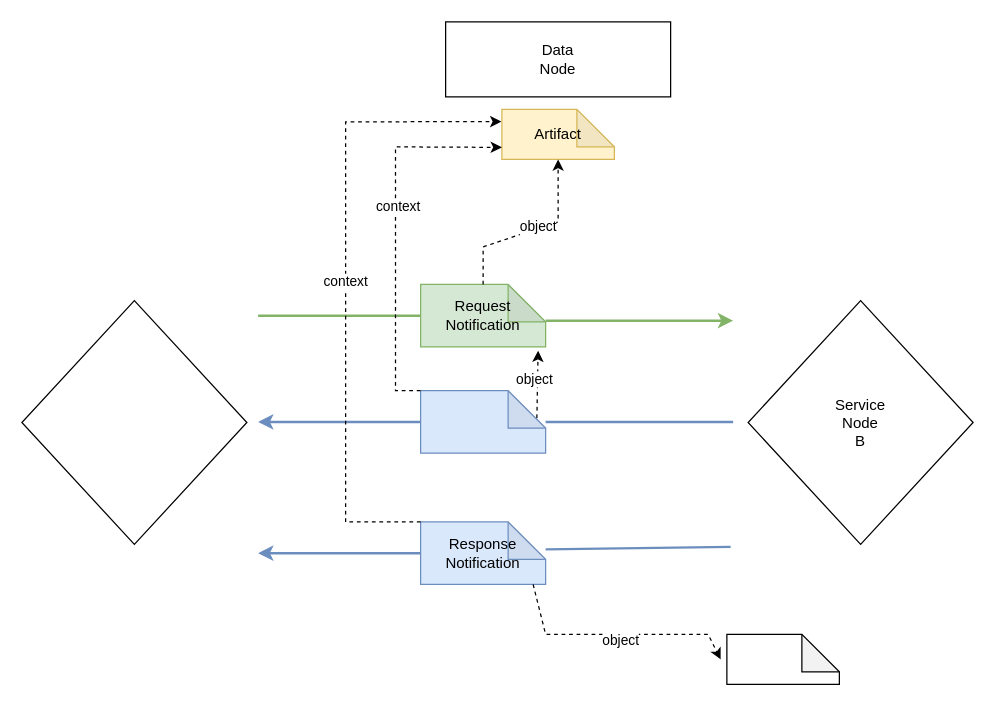
Some shapes in this 995 by 706 pixel diagram are drawn without their labels. The centre of each missing label's shape, as x and y in pixels:
"Ack Notification" goes at point (482, 421).
"Service Node A" goes at point (134, 421).
"Service Result" goes at point (782, 658).
